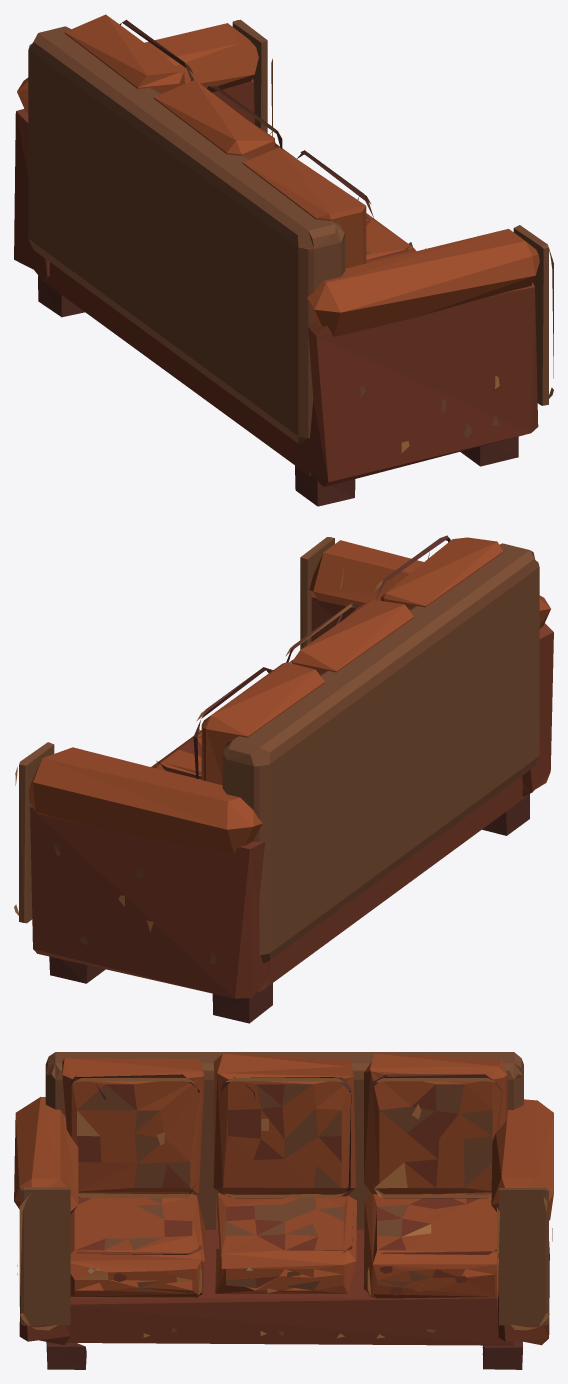
Rendered from prop.sofa.lod1.glb.
The picture shows the model from 3 angles, top to bottom: view 1: azimuth 30°, elevation 25°; view 2: azimuth 150°, elevation 25°; view 3: azimuth 270°, elevation 25°; orthographic projection. The views are drawn at different scales.
Size of the model in its own units: 1.06 by 1.24 by 2.5.
